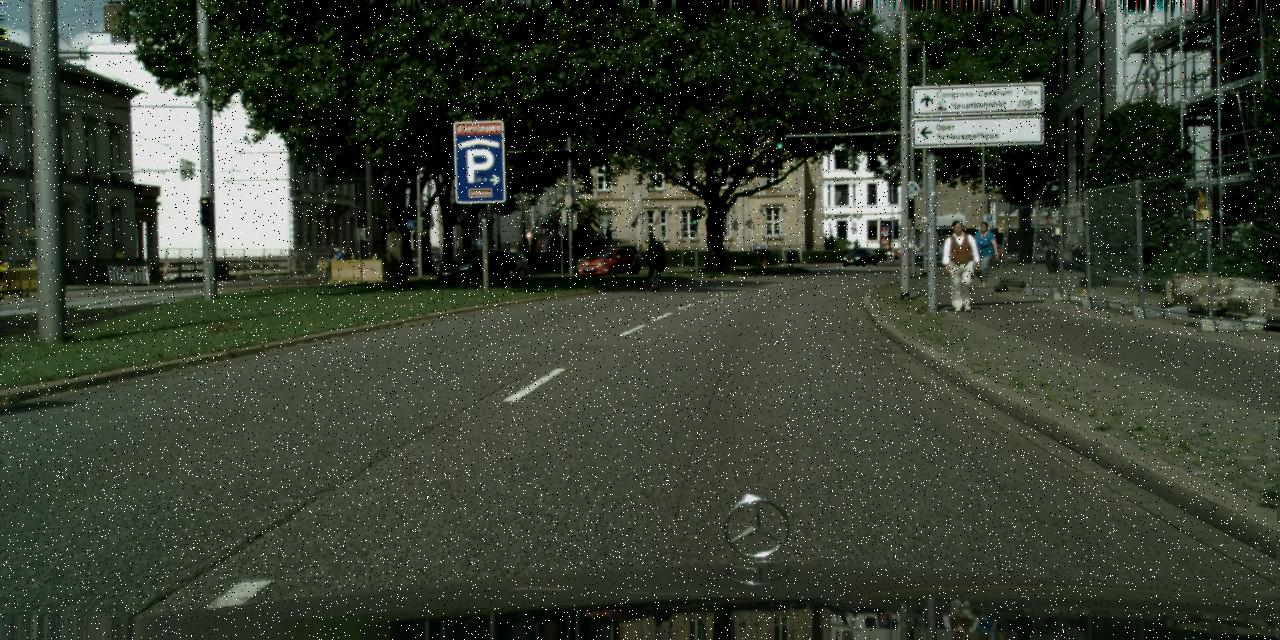ped: (942, 220, 978, 309), (970, 222, 996, 288), (641, 233, 664, 290), (331, 247, 343, 277), (339, 248, 349, 272)
